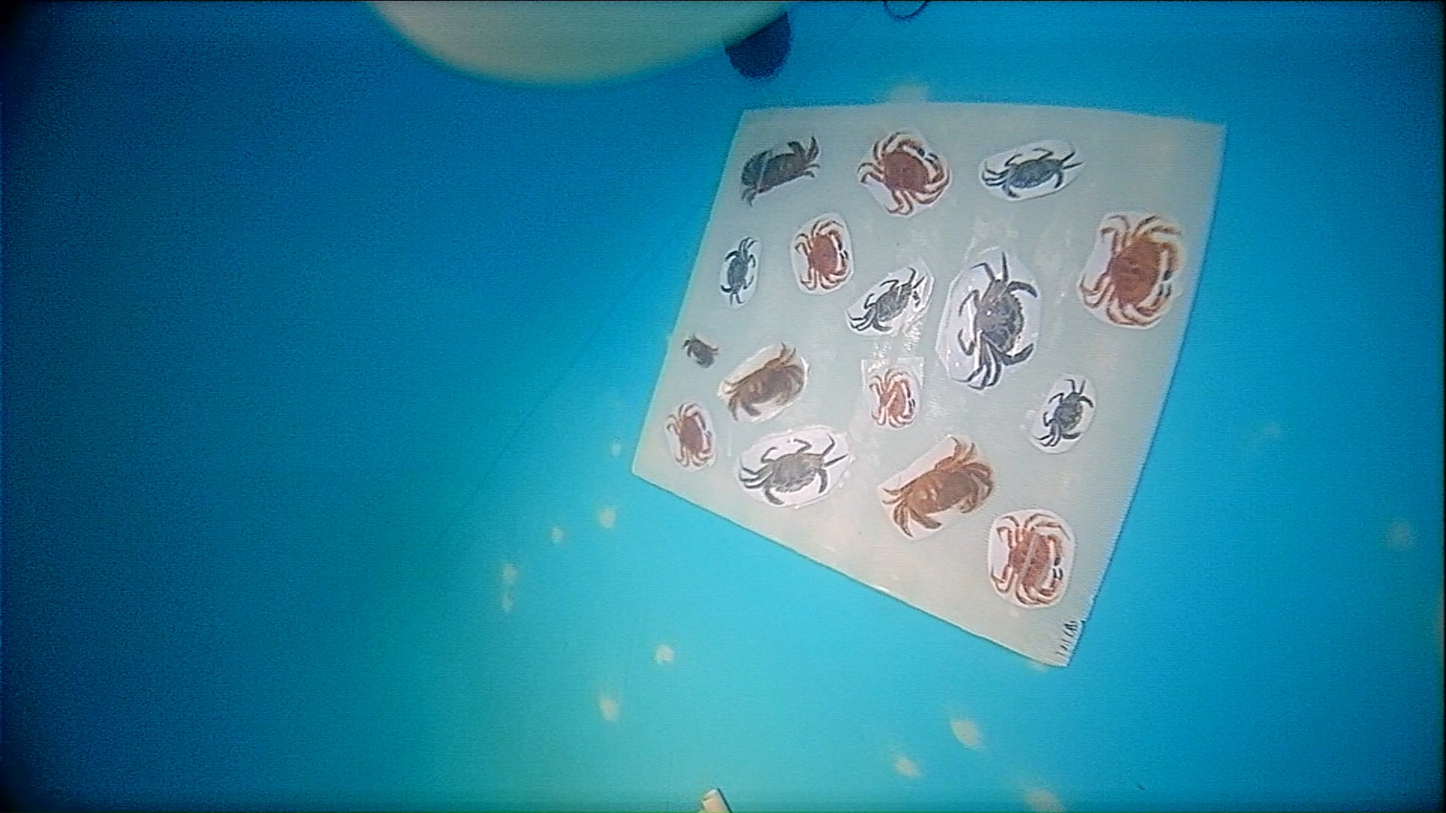GreenCrab: (958, 254, 1037, 390), (740, 440, 844, 504), (981, 148, 1082, 198), (850, 268, 921, 332), (1036, 379, 1093, 446), (719, 236, 758, 308)
